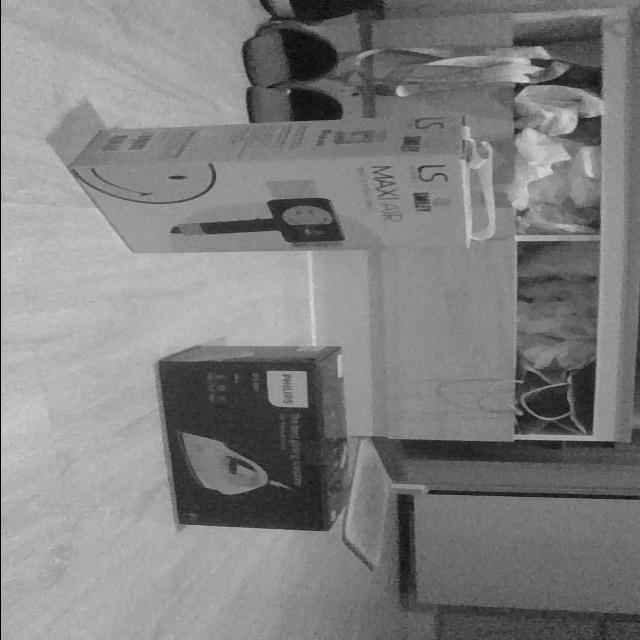Dryer: (68, 112, 498, 255)
IRON: (152, 343, 354, 533)
